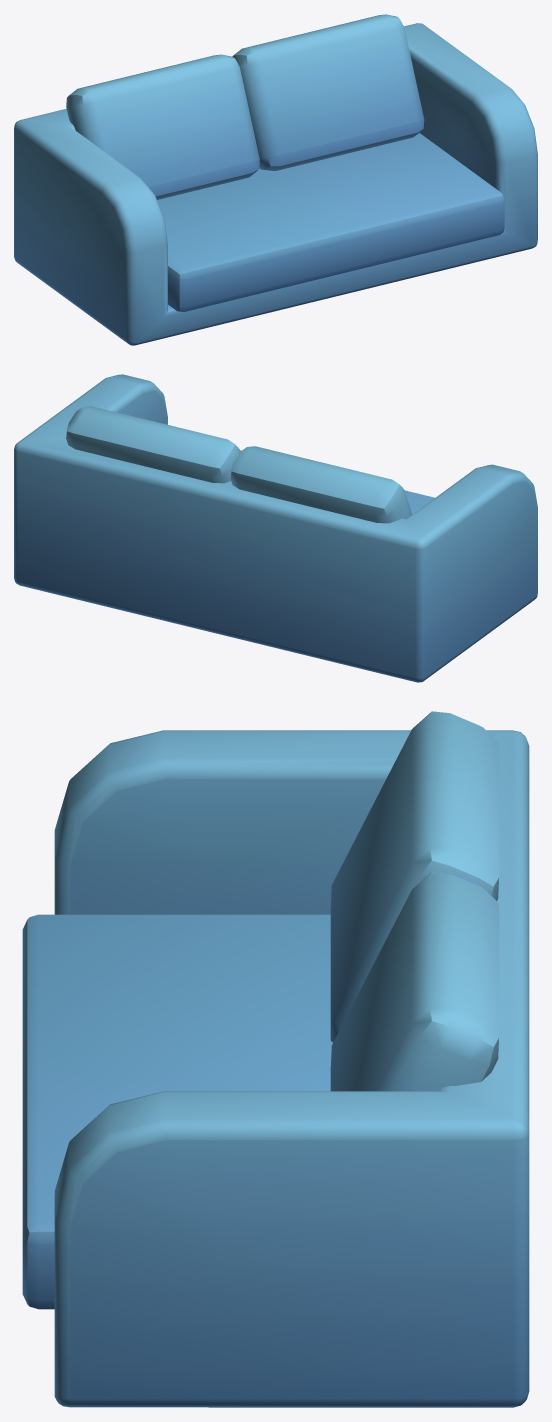
The model's file is couch.glb.
3 renders of one model, top to bottom at view 1: azimuth 30°, elevation 25°; view 2: azimuth 150°, elevation 25°; view 3: azimuth 270°, elevation 25°, orthographic. The views are drawn at different scales.
Parts seen in each view (by area): view 1: couch; view 2: couch; view 3: couch.
Boxes of the visible parts, <box> form: couch: <box>14,14,537,345</box>; couch: <box>14,374,537,682</box>; couch: <box>22,711,529,1407</box>.
Bounding box in the file's own units: 3 × 1.22 × 1.6.
Materials: 1 (1 with a texture image).
